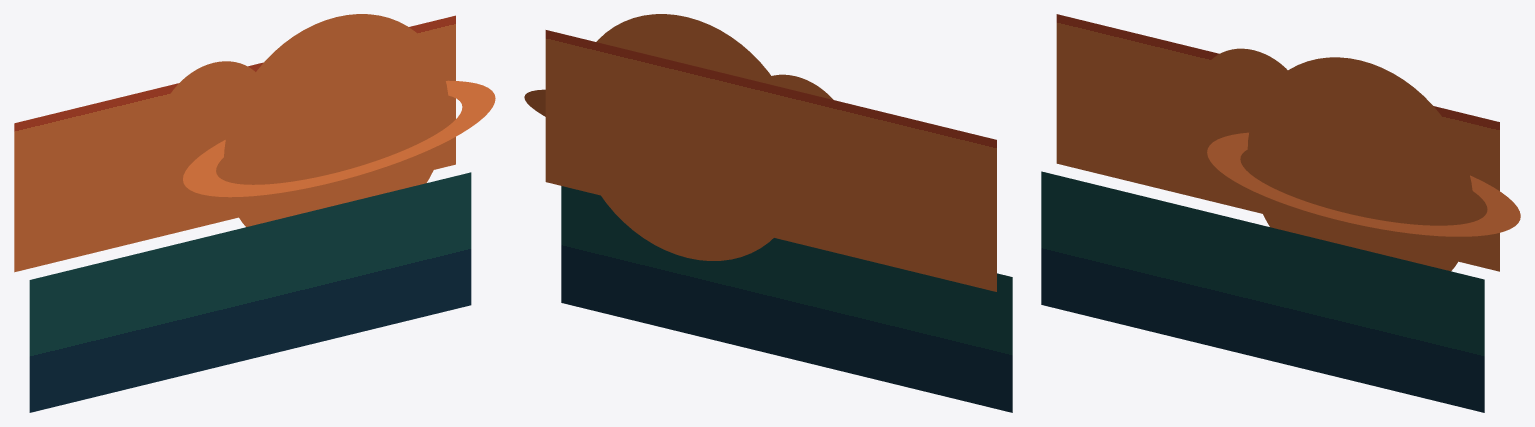
The model's file is background.glb.
3 renders of one model, left to right at view 1: azimuth 30°, elevation 25°; view 2: azimuth 150°, elevation 25°; view 3: azimuth 330°, elevation 25°, orthographic. The views are drawn at different scales.
Visible parts, largest first — view 1: Background; view 2: Background; view 3: Background.
Part boxes in pixels (x1,y1,x2,y2): Background: [14, 14, 495, 412]; Background: [524, 14, 1012, 412]; Background: [1041, 14, 1520, 412].
Bounding box in the file's own units: 41.73 × 26.68 × 2.57.
Materials: 1 (1 with a texture image).
